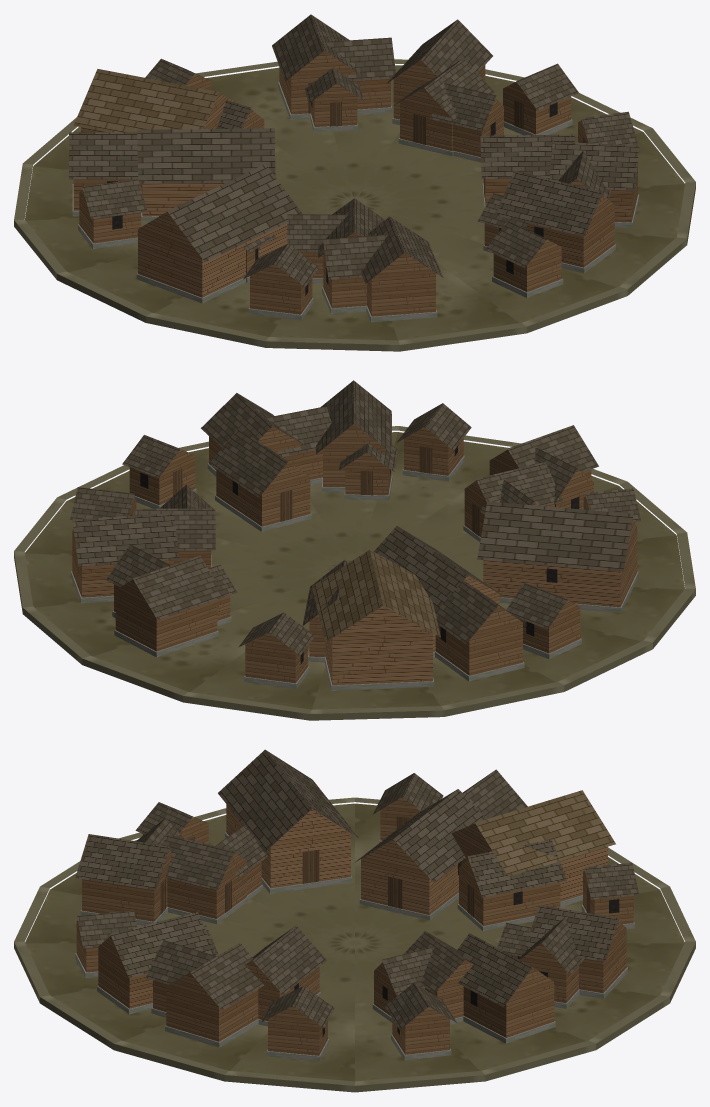
File: ae_forest_village_small_lod2.glb
3 renders of one model, top to bottom at view 1: azimuth 30°, elevation 25°; view 2: azimuth 150°, elevation 25°; view 3: azimuth 270°, elevation 25°, orthographic.
Visible parts, largest first — view 1: ae_forest_village_small_lod2; view 2: ae_forest_village_small_lod2; view 3: ae_forest_village_small_lod2.
Part boxes in pixels (bbox=[...]): ae_forest_village_small_lod2: bbox=[14, 14, 695, 351]; ae_forest_village_small_lod2: bbox=[14, 380, 695, 720]; ae_forest_village_small_lod2: bbox=[14, 749, 695, 1092].
Bounding box in the file's own units: 1.9 × 0.2738 × 1.9.
Materials: 1 (1 with a texture image).
